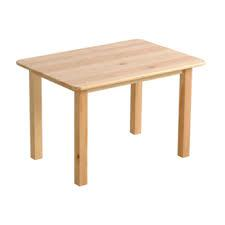desk: (10, 30, 208, 188)
